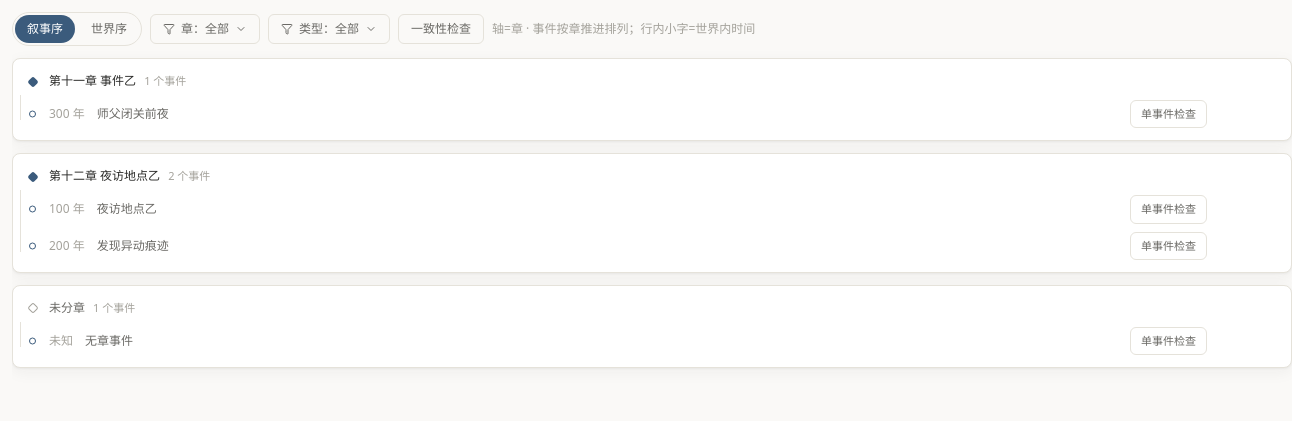
#1323 + #1374 时间线章刻度（去重 + 真实章名 + 未分章 + 章序） › B5 既有行为不破：双序 chips / tl-check-all / tl-check-one / tl-edit / tl-delete / tl-legend 仍存在可用；**世界序无章分组**（#1374 语义升级）
The width and height of the screenshot is (1292, 421).
Expected: the element with test id "timeline-toolbar" is shown, [12,12,755,46]
Expected: the button with test id "tl-view-narrative" is shown, [15,15,75,43]
Click the button with test id "tl-view-world". click: (109, 29)
box: [79,15,139,43]
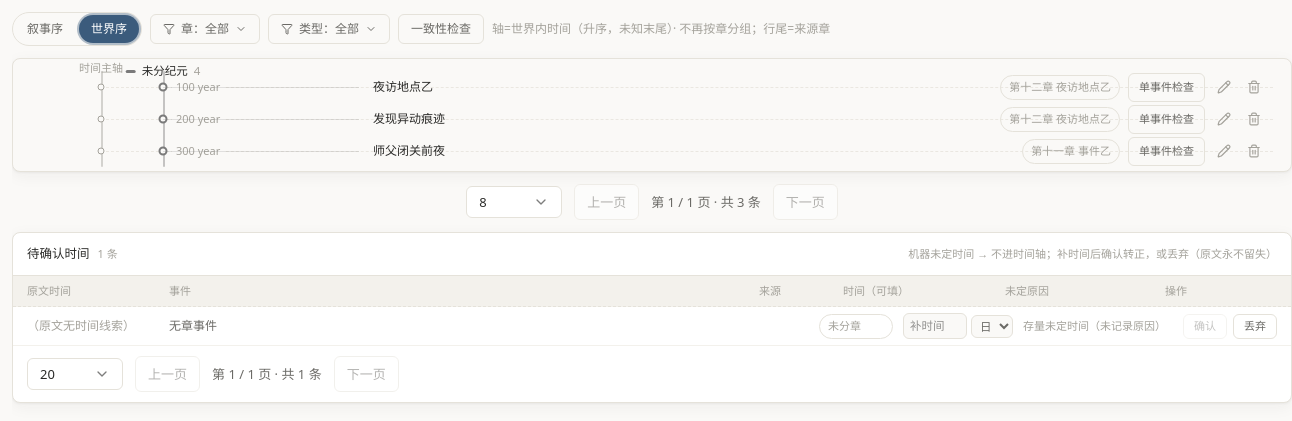
Expected: the text with test id "tl-src-evA" reads "第十一章 事件乙", [1031,143,1111,158]
Expected: the element with test id "tl-pend-row-ev-evB" is shown, [13,307,1291,346]
